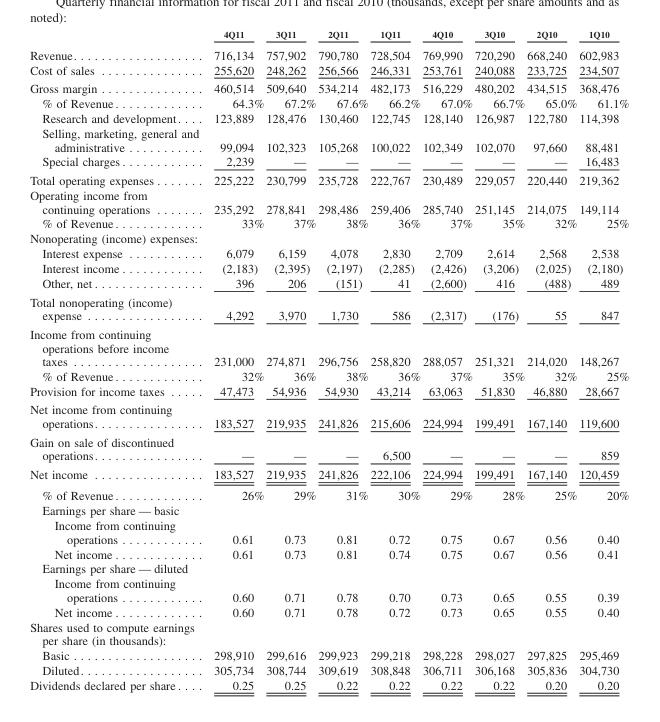table: (29, 29, 628, 691)
table column: (29, 29, 205, 691), (205, 29, 264, 691), (420, 29, 473, 691), (264, 29, 316, 691), (316, 29, 368, 691), (368, 29, 420, 691), (473, 29, 525, 691), (525, 29, 577, 691), (577, 29, 628, 691)
table column header: (29, 29, 628, 43)
table projected row header: (29, 618, 628, 647), (29, 230, 628, 245), (29, 502, 628, 517), (29, 560, 628, 575)
table row: (29, 324, 628, 368), (29, 399, 628, 432), (29, 292, 628, 324), (29, 432, 628, 464), (29, 575, 628, 604), (29, 618, 628, 647), (29, 125, 628, 153), (29, 187, 628, 215), (29, 517, 628, 545), (29, 464, 628, 484), (29, 43, 628, 62), (29, 484, 628, 502), (29, 78, 628, 95), (29, 153, 628, 170), (29, 170, 628, 187), (29, 275, 628, 292), (29, 62, 628, 78), (29, 383, 628, 399), (29, 95, 628, 110), (29, 110, 628, 125), (29, 215, 628, 230), (29, 230, 628, 245), (29, 245, 628, 260), (29, 260, 628, 275), (29, 368, 628, 383), (29, 502, 628, 517), (29, 545, 628, 560), (29, 560, 628, 575), (29, 647, 628, 662), (29, 662, 628, 677), (29, 29, 628, 43), (29, 604, 628, 618), (29, 677, 628, 691)
